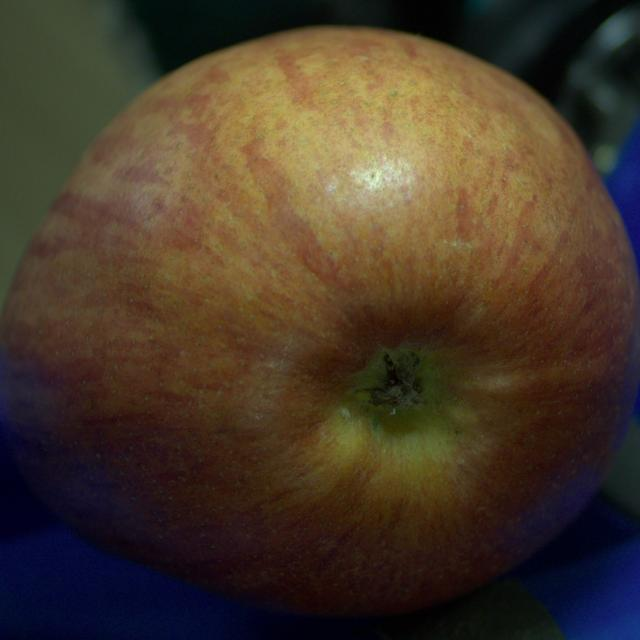apple: (0, 28, 639, 615)
